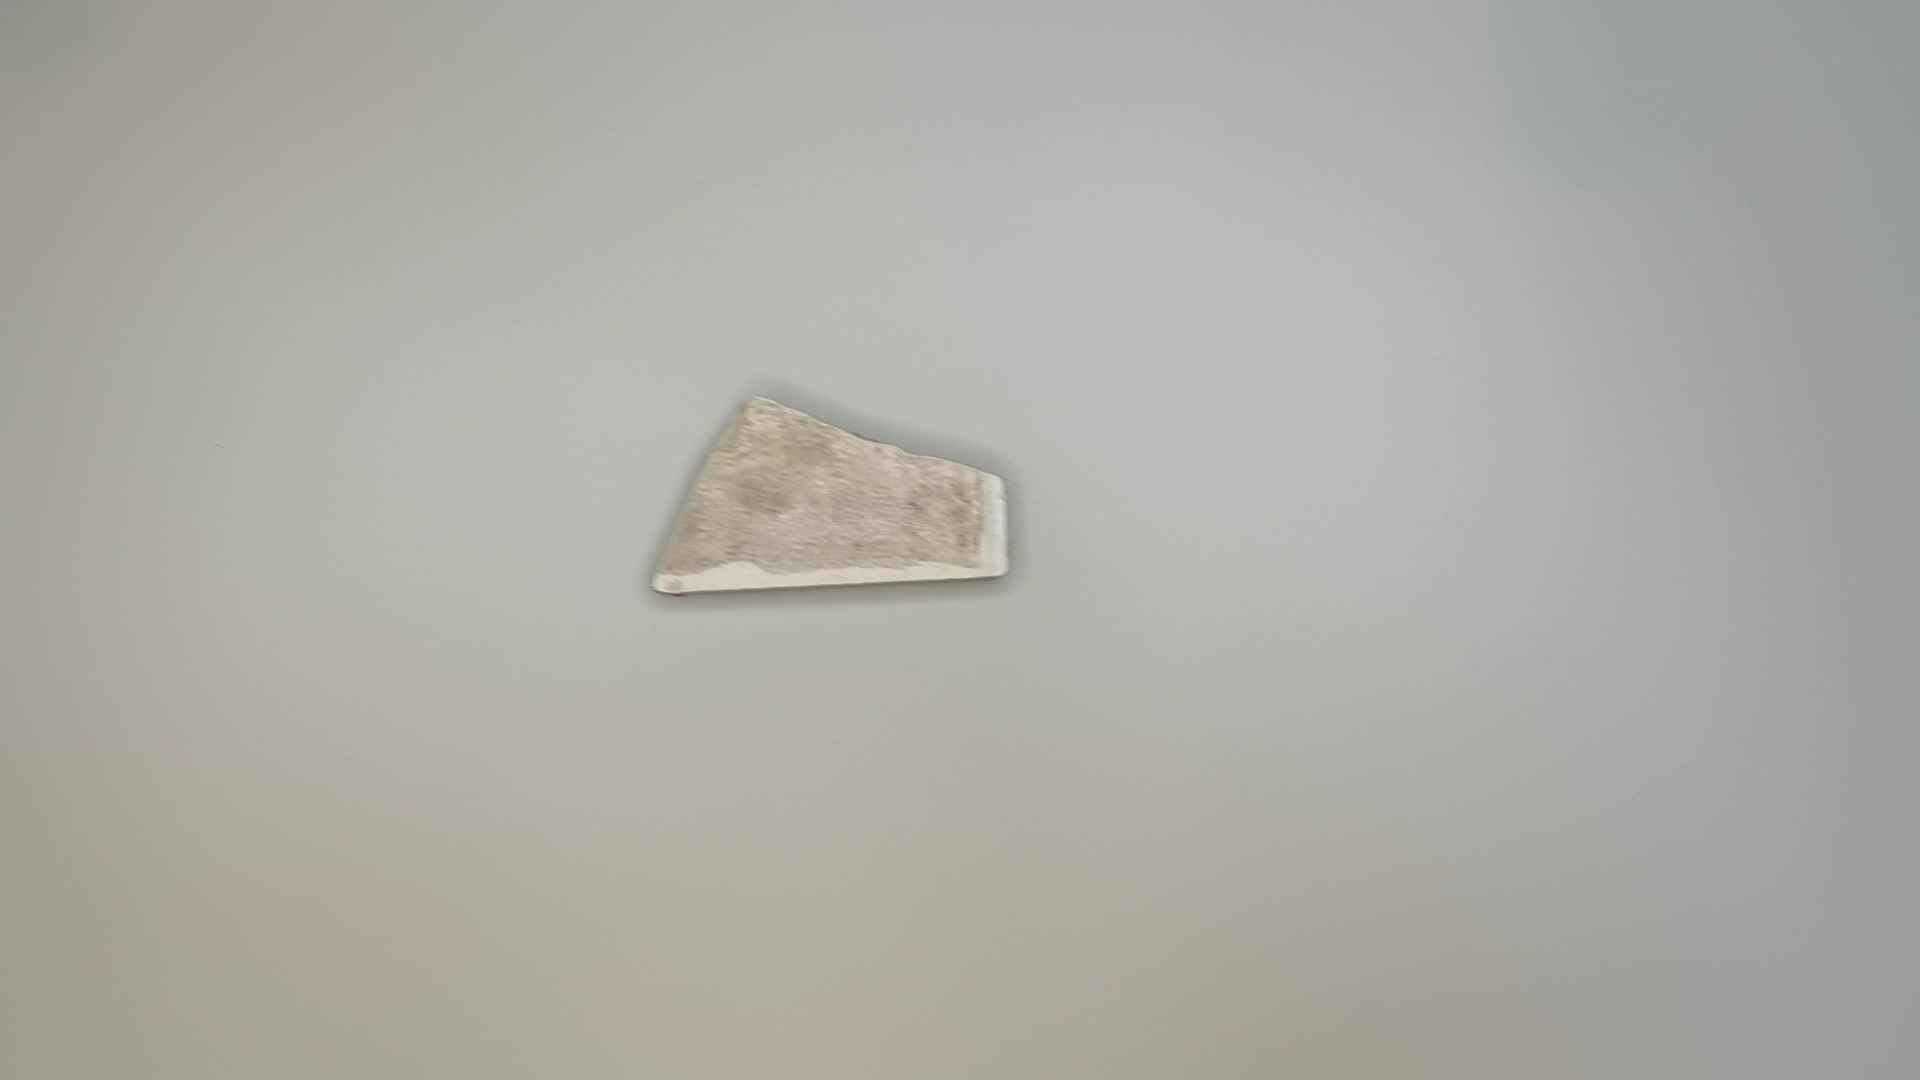ceramic: (647, 386, 1033, 620)
